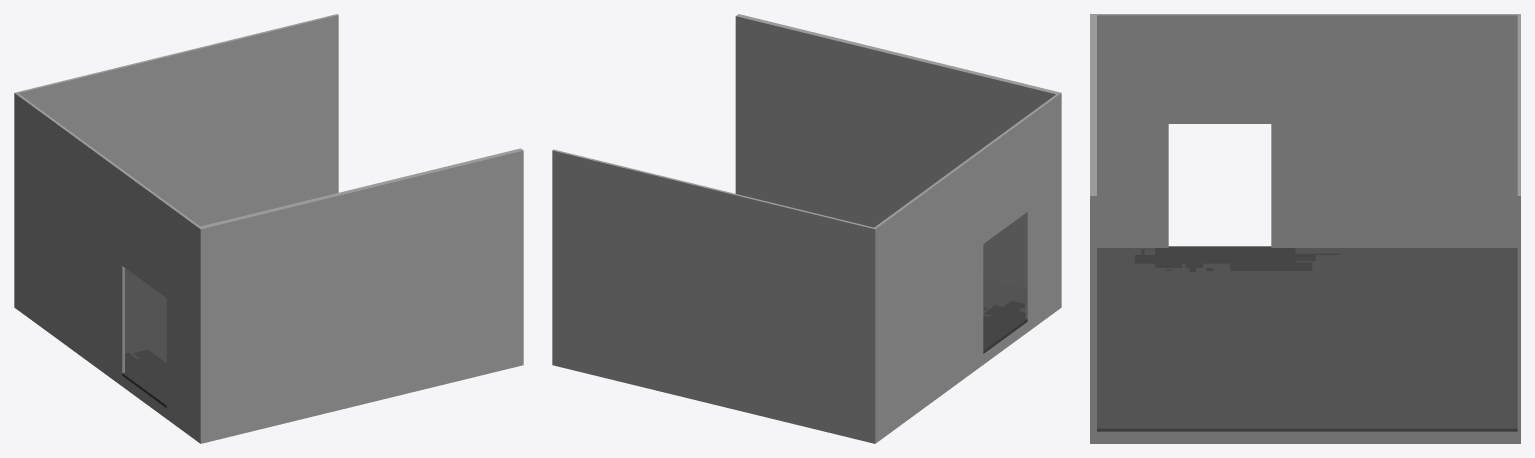
Rendered from 4x2 first (1)-3.obj.
The picture shows the model from 3 angles, left to right: view 1: azimuth 30°, elevation 25°; view 2: azimuth 150°, elevation 25°; view 3: azimuth 270°, elevation 25°; orthographic projection. The views are drawn at different scales.
Parts seen in each view (by area): view 1: 4x2 first (1)-3; view 2: 4x2 first (1)-3; view 3: 4x2 first (1)-3.
Boxes of the visible parts, left/top/right/bottom form: 4x2 first (1)-3: left=14, top=14, right=523, bottom=443; 4x2 first (1)-3: left=552, top=14, right=1061, bottom=443; 4x2 first (1)-3: left=1090, top=14, right=1520, bottom=443.
Bounding box in the file's own units: 126 × 80 × 126.
1 material, 1 textured.
